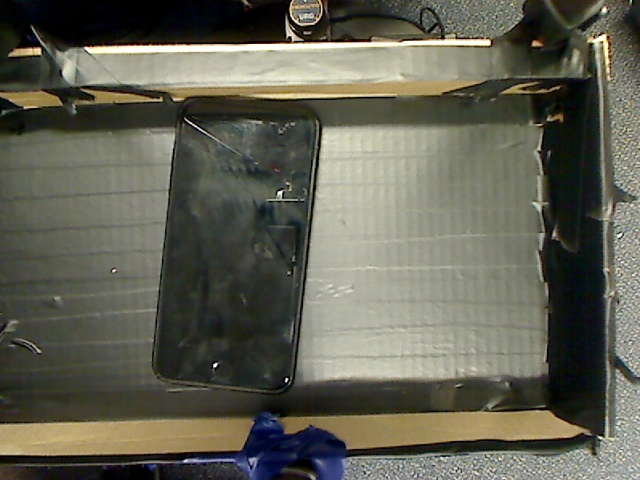phone: (142, 83, 327, 395)
